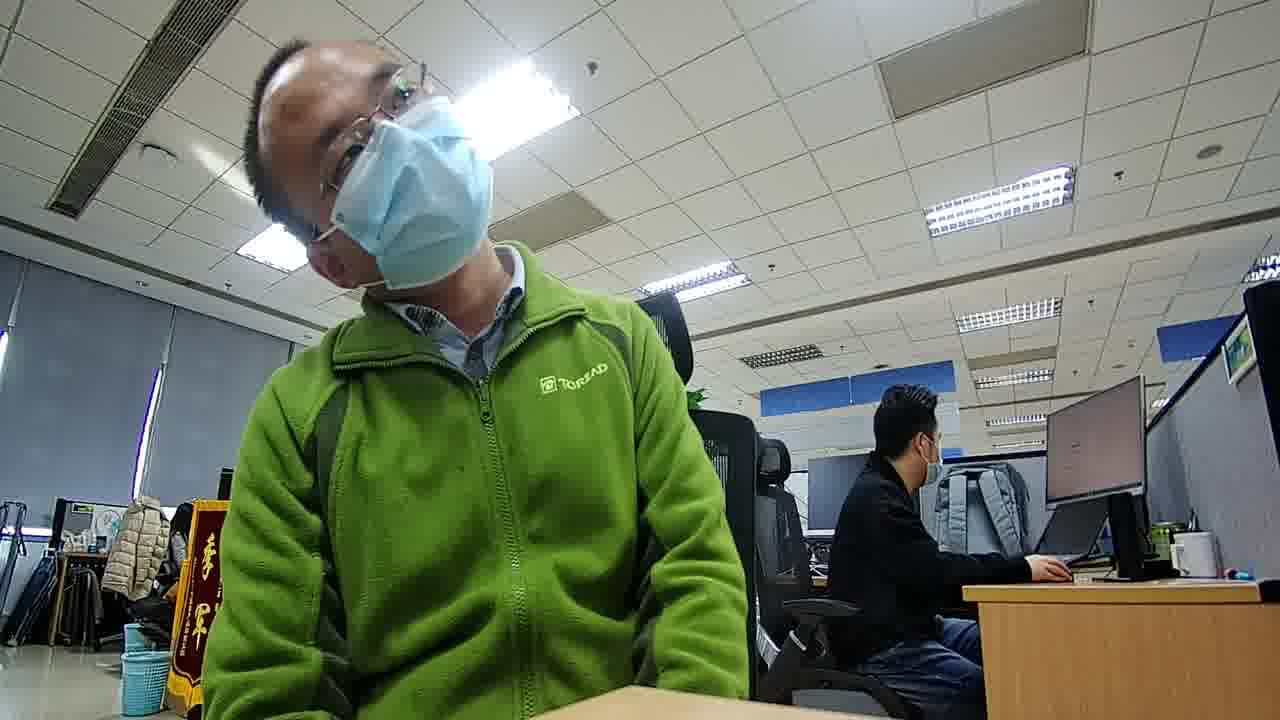face: (267, 45, 497, 290)
mask: (332, 97, 496, 292)
person: (233, 23, 683, 424), (835, 379, 957, 545), (161, 497, 195, 549)
